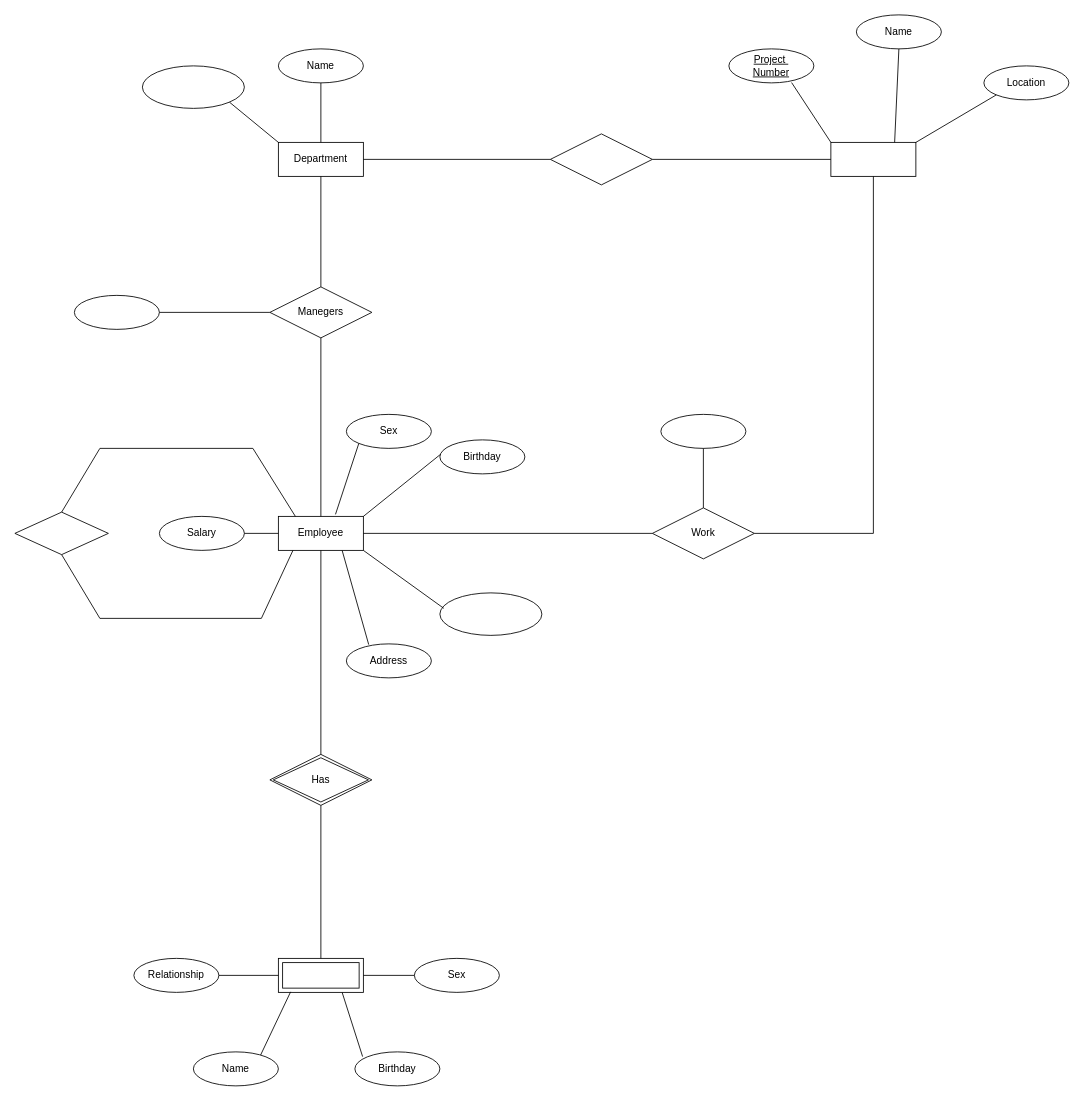
The diagram is 1084 pixels wide and 1101 high, and some of its shapes have lost their labels. Each missing label, with the centre of its shape:
"Control" goes at pixel 601 159.
"Department Number" goes at pixel 193 86.
"Entity" goes at pixel 320 975.
"Number of hours" goes at pixel 703 431.
"Project" goes at pixel 873 159.
"Social Security Number" goes at pixel 490 613.
"Start Date" goes at pixel 116 312.
"Superviser" goes at pixel 61 533.
